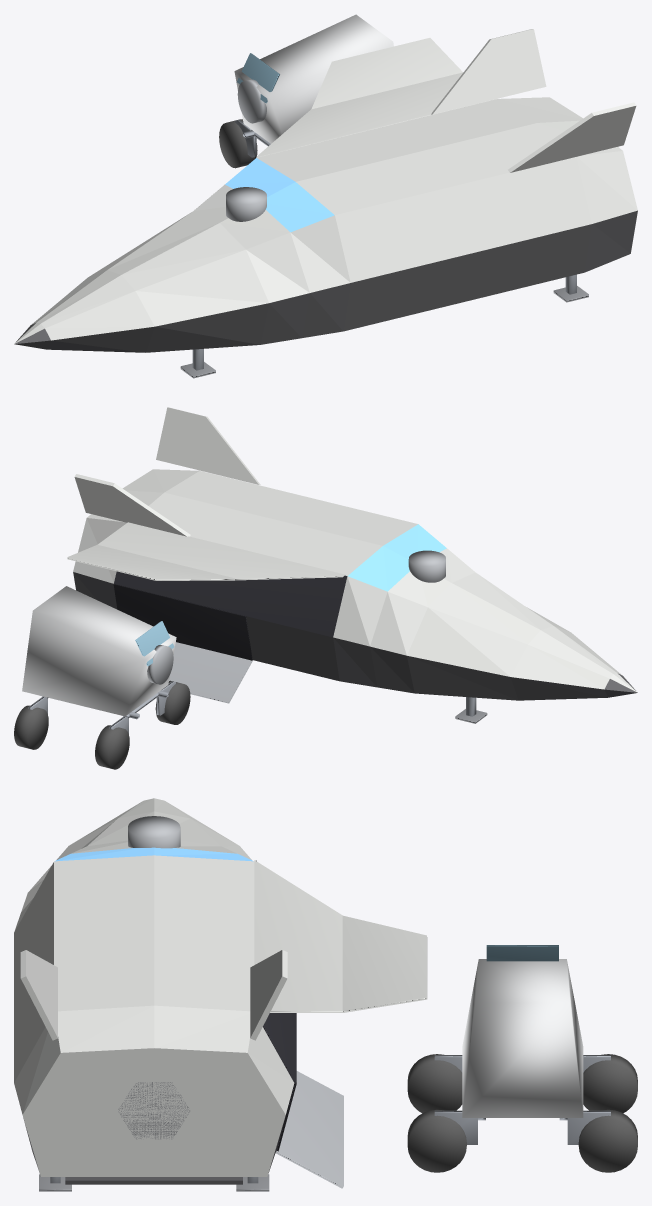
Rendered from b4s_rover_std.glb.
The picture shows the model from 3 angles, top to bottom: view 1: azimuth 30°, elevation 25°; view 2: azimuth 150°, elevation 25°; view 3: azimuth 270°, elevation 25°; orthographic projection. The views are drawn at different scales.
Parts seen in each view (by area): view 1: hull, belly_tps, rover_light, wing_in_stbd, wing_out_stbd, fin_stbd, fin_port, glazing, dorsal_hatch, pod_wheel_fwd_stbd, pod_hatch, rover_light_window; view 2: hull, belly_tps, rover_light, opening_up, wing_in_stbd, opening_low, fin_port, door_ramp_open, fin_stbd, glazing, wing_out_stbd, pod_wheel_aft_stbd (+5 smaller); view 3: hull, rover_light, wing_in_stbd, wing_out_stbd, door_ramp_open, pod_wheel_aft_port, pod_wheel_aft_stbd, pod_wheel_fwd_port, pod_wheel_fwd_stbd, fin_stbd, fin_port, torch_nozzle (+7 smaller).
Boxes of the visible parts, box(x1,y1,x2,y2) form: hull: box(14, 97, 637, 343); belly_tps: box(14, 210, 637, 352); rover_light: box(234, 14, 393, 143); wing_in_stbd: box(256, 72, 497, 157); wing_out_stbd: box(311, 38, 462, 109); fin_stbd: box(431, 29, 546, 114); fin_port: box(508, 102, 636, 172); glazing: box(225, 158, 334, 232); dorsal_hatch: box(226, 187, 266, 221); pod_wheel_fwd_stbd: box(219, 119, 257, 168); pod_hatch: box(237, 79, 266, 123); rover_light_window: box(237, 53, 279, 103); hull: box(73, 469, 637, 692); belly_tps: box(73, 572, 637, 700); rover_light: box(22, 586, 176, 716); opening_up: box(114, 571, 347, 637); wing_in_stbd: box(97, 522, 347, 580); opening_low: box(113, 584, 252, 660); fin_port: box(156, 407, 260, 484); door_ramp_open: box(169, 642, 252, 703); fin_stbd: box(74, 474, 190, 536); glazing: box(347, 524, 446, 591); wing_out_stbd: box(67, 545, 234, 580); pod_wheel_aft_stbd: box(14, 705, 48, 749); hull: box(14, 798, 294, 1176); rover_light: box(462, 959, 583, 1117); wing_in_stbd: box(254, 860, 342, 1012); wing_out_stbd: box(342, 915, 427, 1012); door_ramp_open: box(275, 1071, 343, 1188); pod_wheel_aft_port: box(407, 1109, 466, 1172); pod_wheel_aft_stbd: box(578, 1109, 637, 1172); pod_wheel_fwd_port: box(407, 1054, 462, 1113); pod_wheel_fwd_stbd: box(583, 1054, 637, 1113); fin_stbd: box(250, 950, 287, 1040); fin_port: box(20, 950, 57, 1040); torch_nozzle: box(118, 1082, 189, 1139).
Size of the model in its own units: 12.8 by 4.05 by 9.48.
